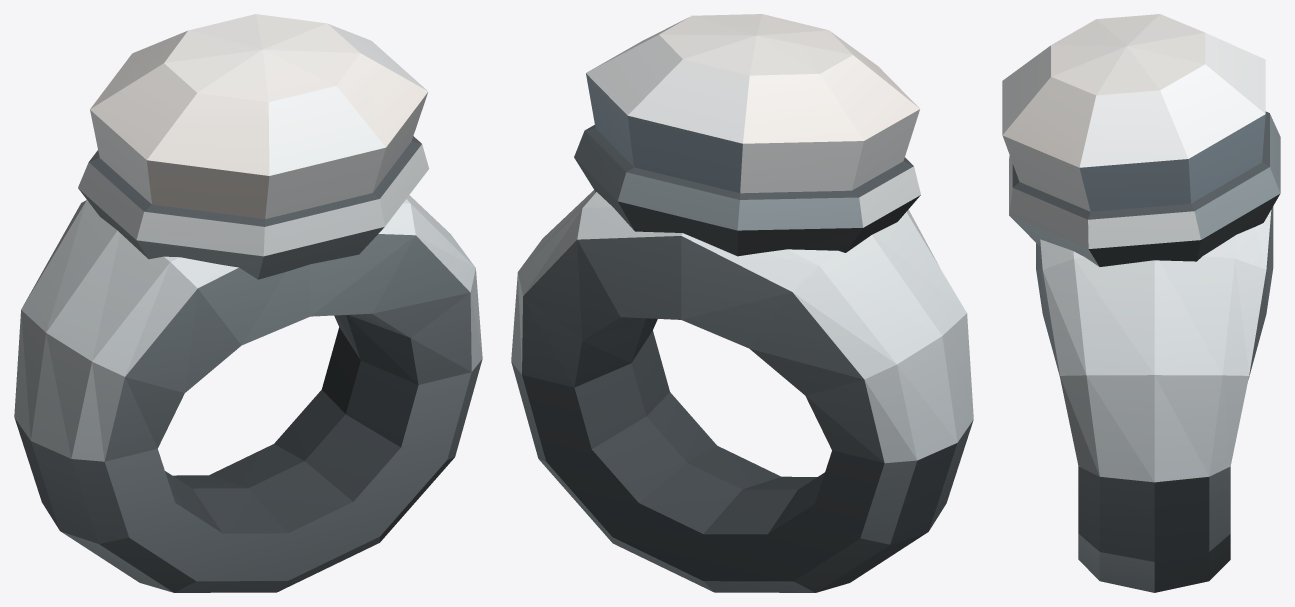
Rendered from source.glb.
3 renders of one model, left to right at view 1: azimuth 30°, elevation 25°; view 2: azimuth 150°, elevation 25°; view 3: azimuth 270°, elevation 25°, orthographic. The views are drawn at different scales.
Visible parts, largest first — view 1: model; view 2: model; view 3: model.
Part boxes in pixels (bbox=[...]): model: bbox=[14, 14, 482, 592]; model: bbox=[511, 14, 973, 592]; model: bbox=[1002, 14, 1280, 592].
Size of the model in its own units: 0.52 by 0.62 by 0.3.
Materials: 1 (1 with a texture image).
